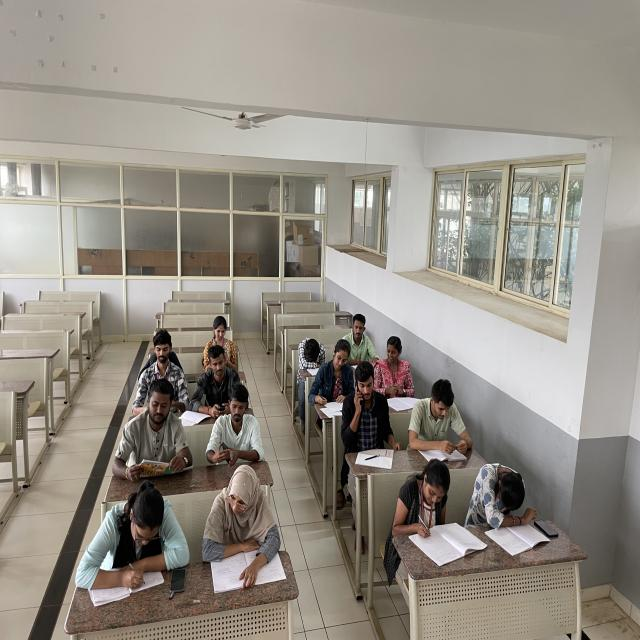Reading: (114, 380, 195, 480), (412, 372, 473, 469)
Sleeping: (472, 460, 532, 538), (300, 332, 331, 384)
Using Phone: (214, 385, 266, 466), (351, 362, 395, 452), (197, 343, 239, 416)
Writing: (93, 491, 165, 598), (400, 451, 468, 560), (314, 337, 358, 414)
